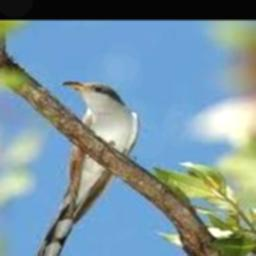Cuckoo: (33, 79, 139, 256)
